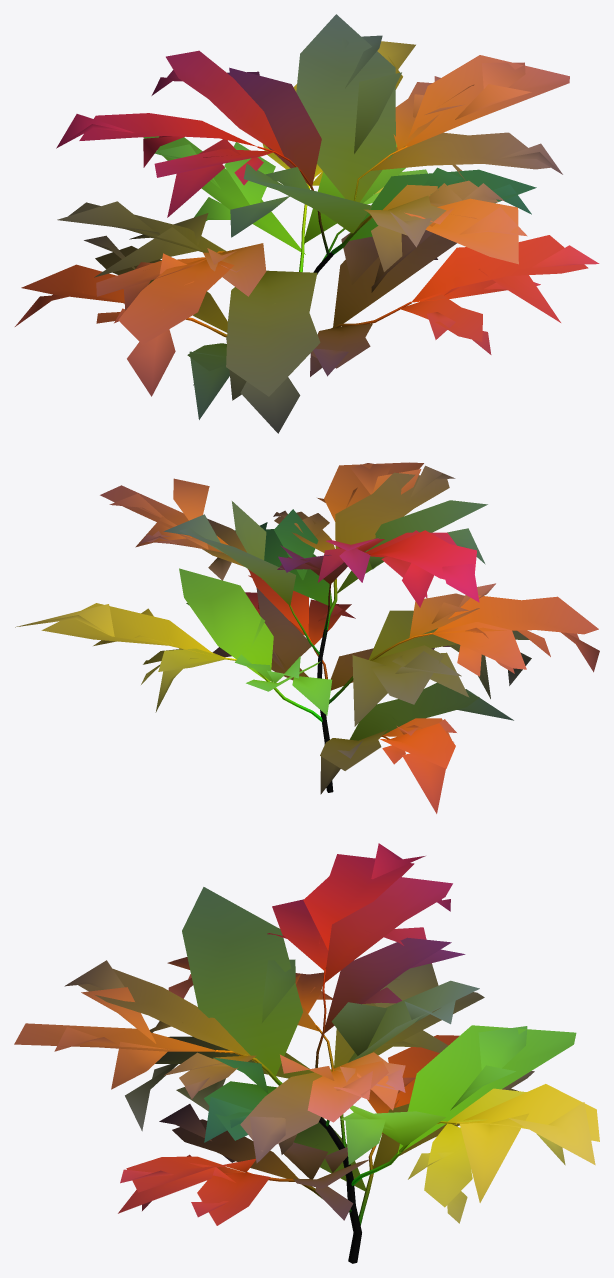
File: SM_EuropeanBeech_XS_01.fbx
3 views of the same model, one above another, from view 1: azimuth 30°, elevation 25°; view 2: azimuth 150°, elevation 25°; view 3: azimuth 270°, elevation 25° (orthographic). The views are drawn at different scales.
Visible parts, largest first — view 1: SM_EuropeanBeech_XS_01_LOD0; view 2: SM_EuropeanBeech_XS_01_LOD0; view 3: SM_EuropeanBeech_XS_01_LOD0.
Boxes of the visible parts, box(x1,y1,x2,y2) form: SM_EuropeanBeech_XS_01_LOD0: box(15, 14, 599, 433); SM_EuropeanBeech_XS_01_LOD0: box(15, 462, 599, 813); SM_EuropeanBeech_XS_01_LOD0: box(14, 843, 599, 1263).
Size of the model in its own units: 193 by 184 by 120.
